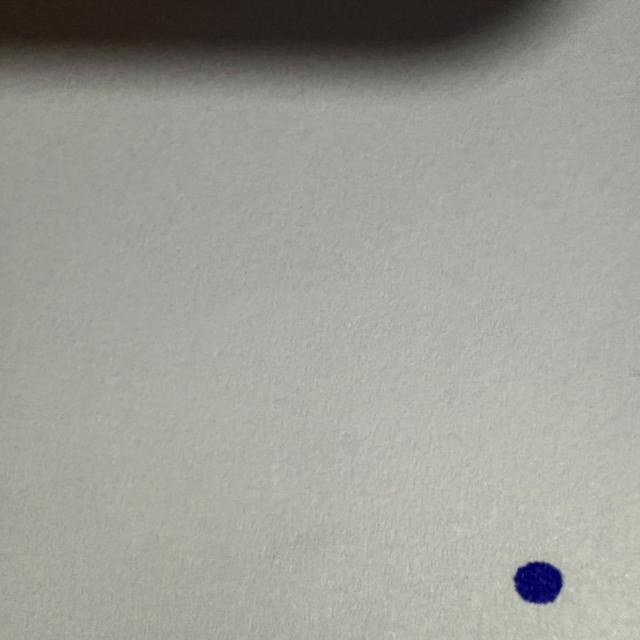Circle: (510, 558, 571, 608)
